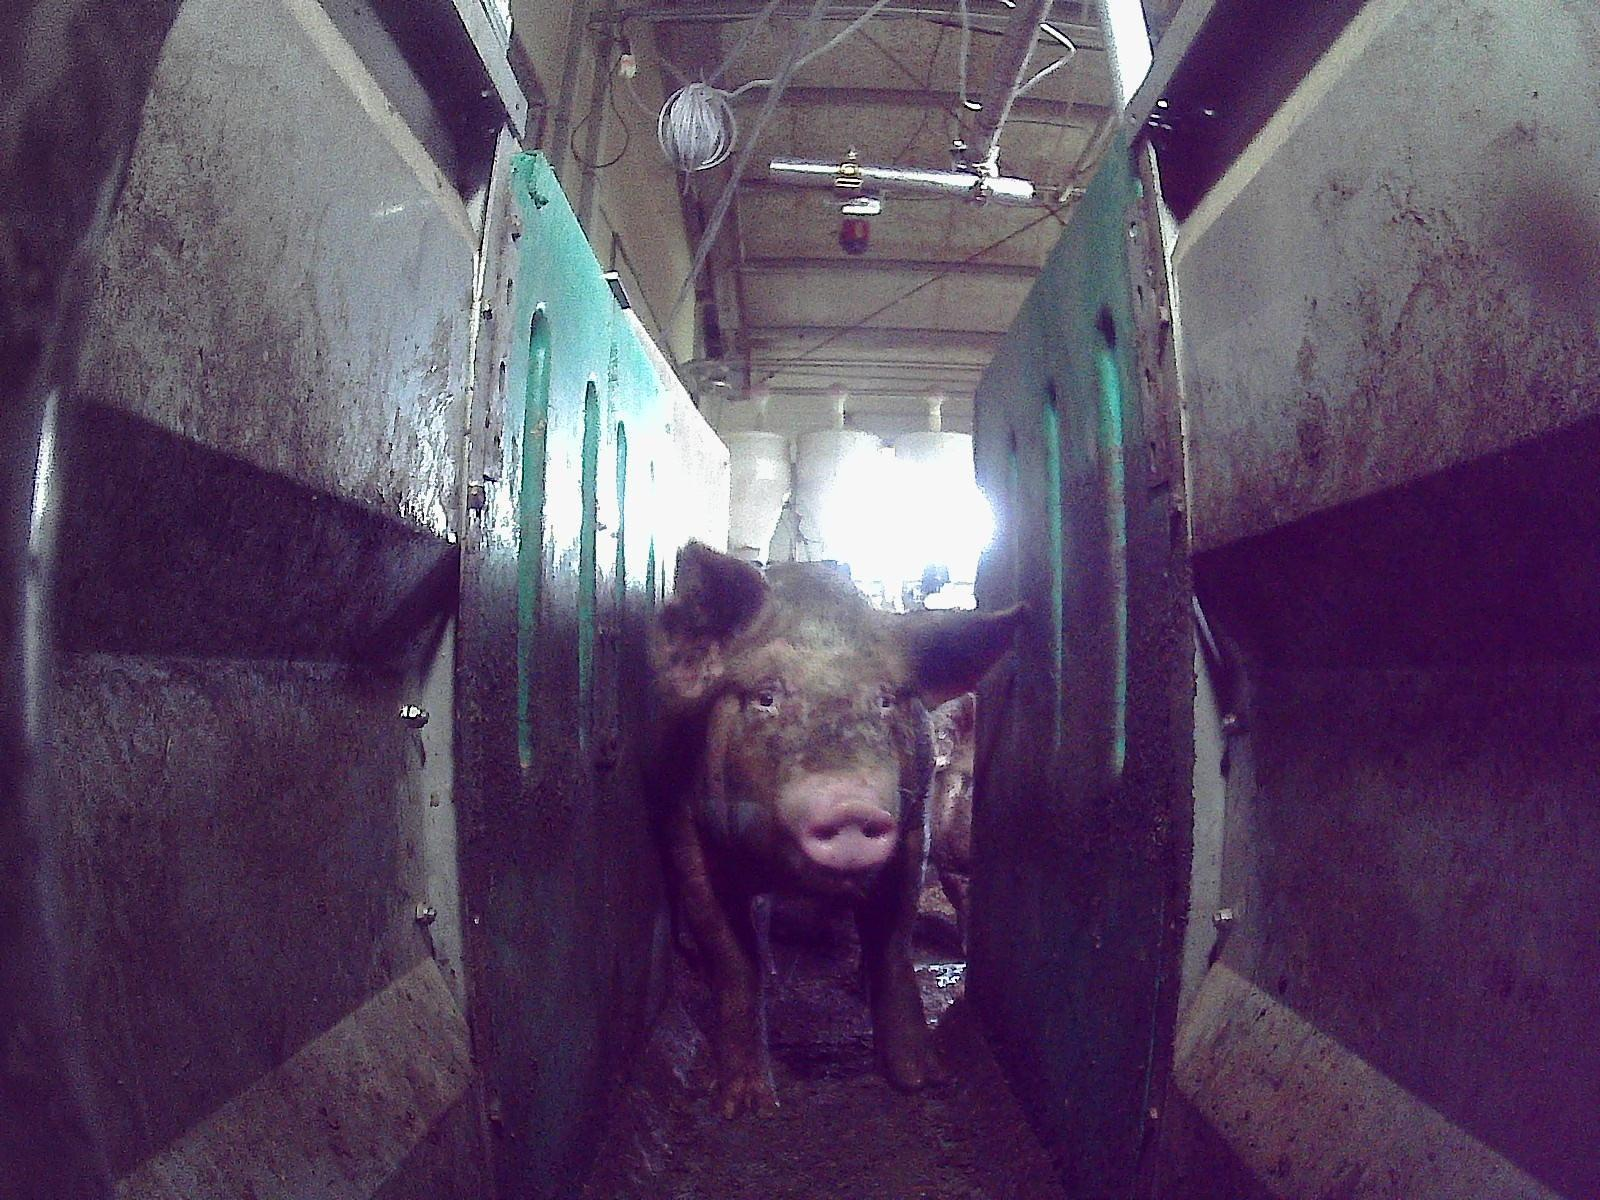Face: (710, 597, 910, 890)
